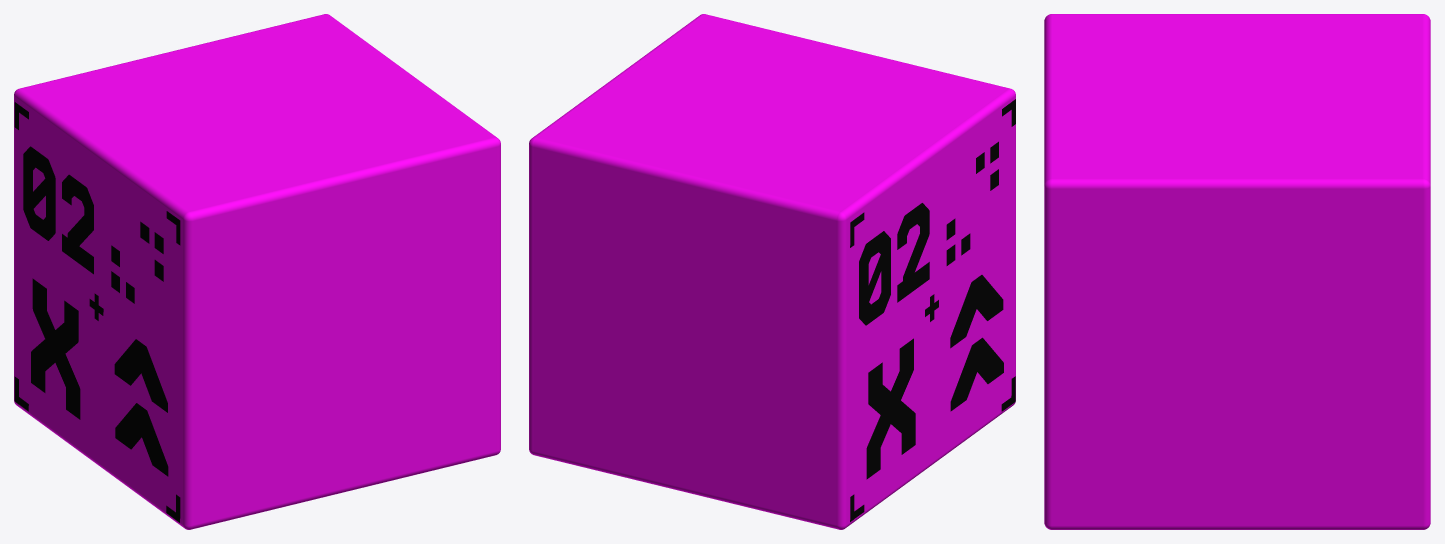
The picture shows the model from 3 angles, left to right: view 1: azimuth 30°, elevation 25°; view 2: azimuth 150°, elevation 25°; view 3: azimuth 270°, elevation 25°; orthographic projection. The views are drawn at different scales.
Parts seen in each view (by area): view 1: Cube.005, Text.007, Text, Text.049, Text.060, Text.041; view 2: Cube.005, Text.007, Text, Text.049, Text.060, Text.041; view 3: Cube.005.
Part boxes in pixels (x1,y1,x2,y2): Cube.005: [14, 14, 500, 529]; Text.007: [23, 146, 93, 274]; Text: [32, 278, 80, 419]; Text.049: [115, 403, 168, 476]; Text.060: [114, 339, 167, 412]; Text.041: [31, 300, 78, 392]; Cube.005: [529, 14, 1015, 529]; Text.007: [859, 203, 929, 325]; Text: [868, 362, 915, 454]; Text.049: [950, 337, 1003, 411]; Text.060: [950, 275, 1003, 348]; Text.041: [866, 338, 913, 479]; Cube.005: [1044, 14, 1430, 529].
Bounding box in the file's own units: 209 × 199 × 199.
